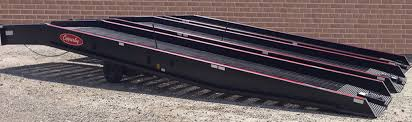Yard Ramp: (4, 13, 412, 119)
